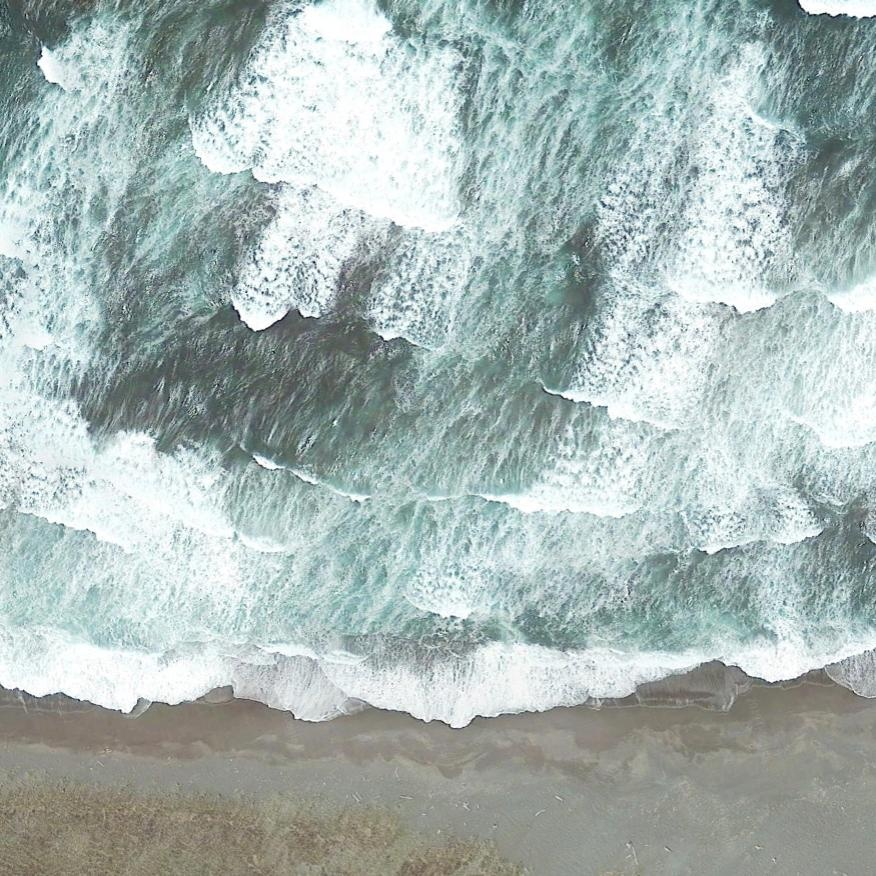rip_current: (393, 22, 673, 619)
